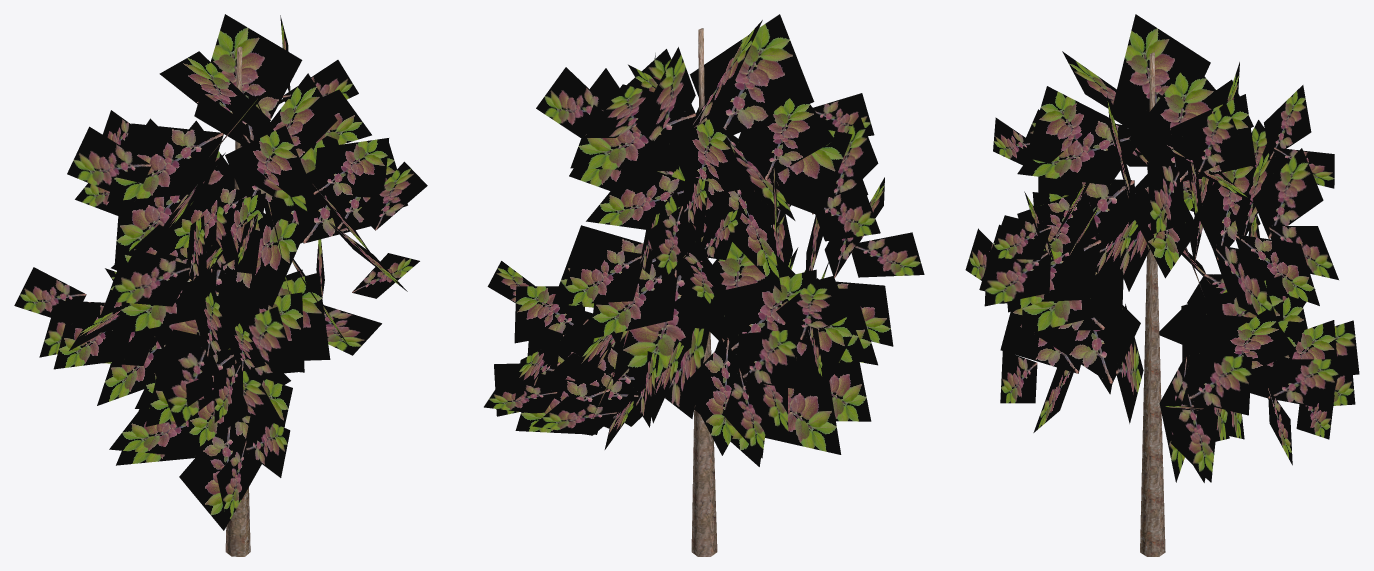
The model's file is tree2_LOD2.fbx.
3 renders of one model, left to right at view 1: azimuth 30°, elevation 25°; view 2: azimuth 150°, elevation 25°; view 3: azimuth 270°, elevation 25°, orthographic. The views are drawn at different scales.
Visible parts, largest first — view 1: branch03_2, bark02_0; view 2: branch03_2, bark02_0; view 3: branch03_2, bark02_0.
Boxes of the visible parts, x1,y1,x2,y2 form: branch03_2: (14,14,427,530); bark02_0: (225,46,250,556); branch03_2: (484,14,924,466); bark02_0: (691,28,717,556); branch03_2: (965,14,1359,482); bark02_0: (1140,52,1165,556).
Bounding box in the file's own units: 723 × 1008 × 714.
